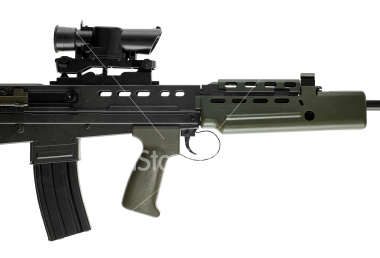rifle: (4, 12, 375, 242)
